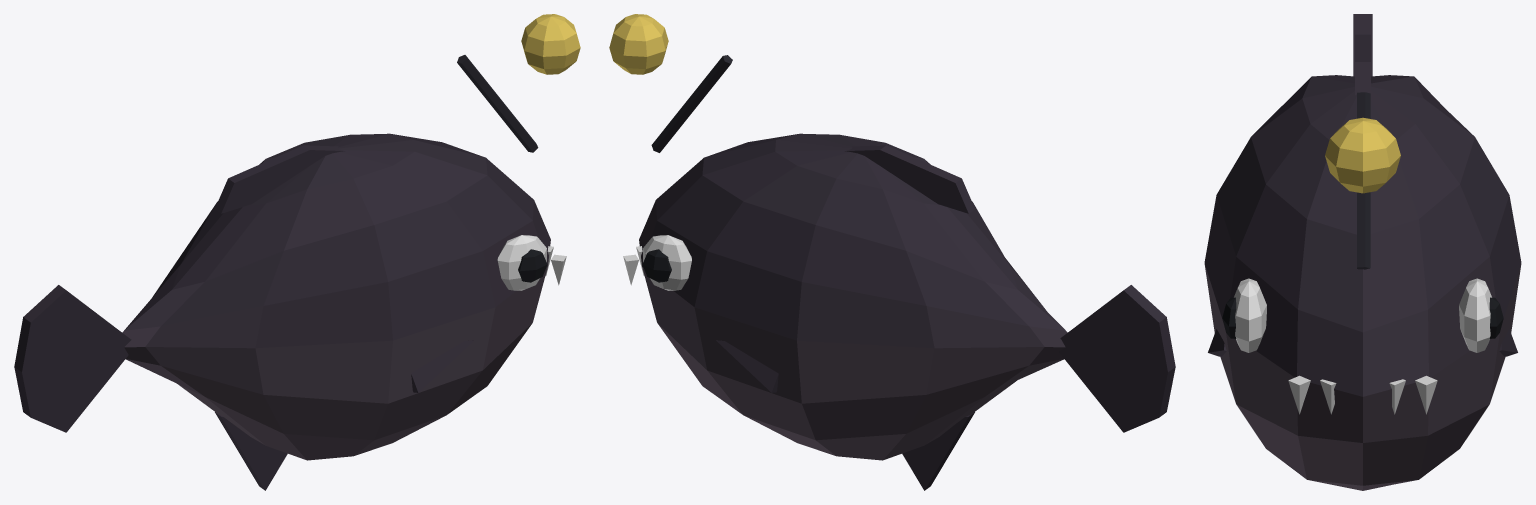
The model's file is fish-anglerfish.glb.
3 views of the same model, side by side, from view 1: azimuth 30°, elevation 25°; view 2: azimuth 150°, elevation 25°; view 3: azimuth 270°, elevation 25° (orthographic). The views are drawn at different scales.
Parts seen in each view (by area): view 1: fish-anglerfish; view 2: fish-anglerfish; view 3: fish-anglerfish.
Boxes of the visible parts, bbox=[...] form: fish-anglerfish: bbox=[14, 14, 580, 490]; fish-anglerfish: bbox=[609, 14, 1175, 490]; fish-anglerfish: bbox=[1204, 14, 1521, 490].
Size of the model in its own units: 1.26 by 0.8644 by 0.5.
